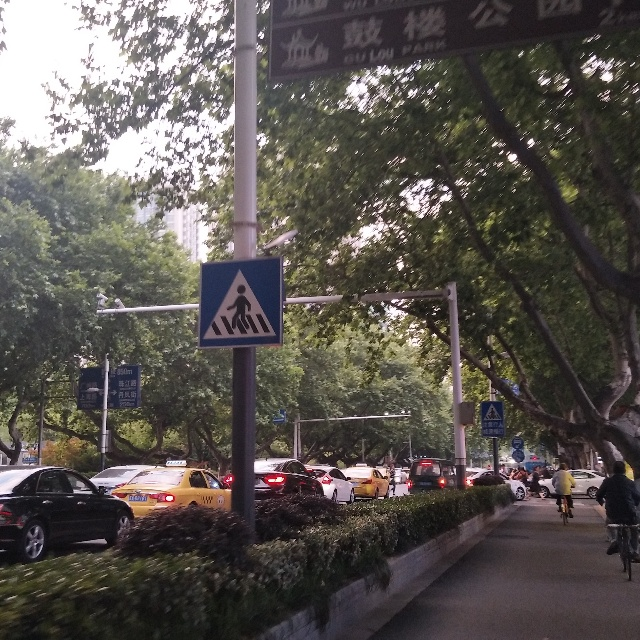crosswalk: (191, 254, 287, 352), (483, 400, 508, 437)
